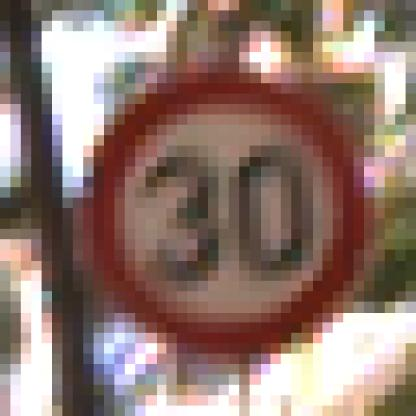Speed Limit 30: (81, 73, 370, 363)
